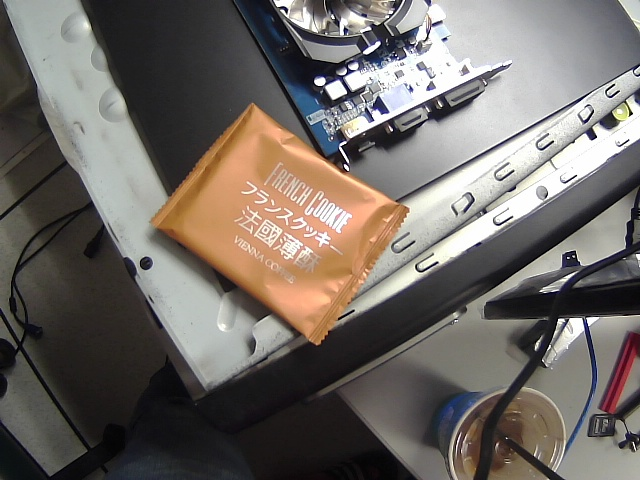frenchcookie: (139, 98, 417, 354)
